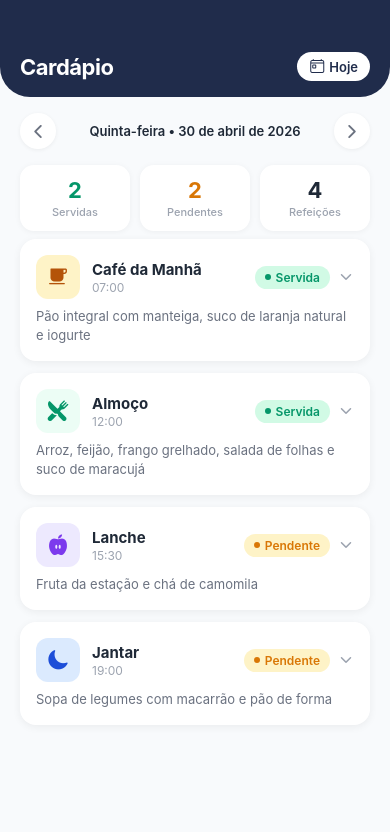
Scenario: CardapioPage › deve exibir restrições alimentares corretamente
# Expande o card do café da manhã
Step 1. Click the text "Café da Manhã" → (147, 269), box top-left (92, 260), bottom-right (202, 278)
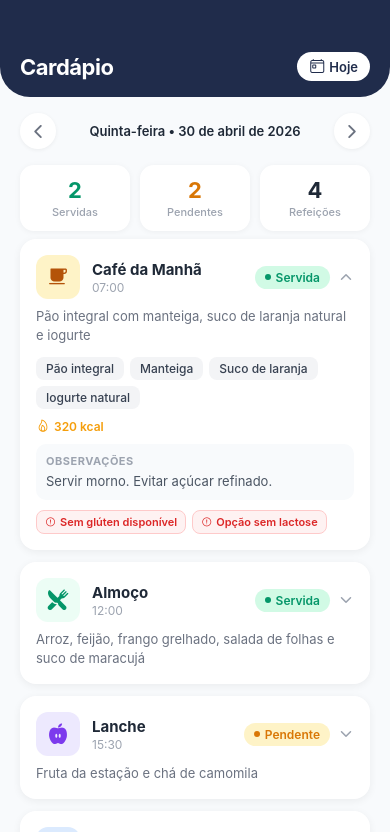
Now the text "Sem glúten disponível" is shown, box top-left (60, 515), bottom-right (177, 529)
Now the text "Opção sem lactose" is shown, box top-left (216, 515), bottom-right (318, 529)
